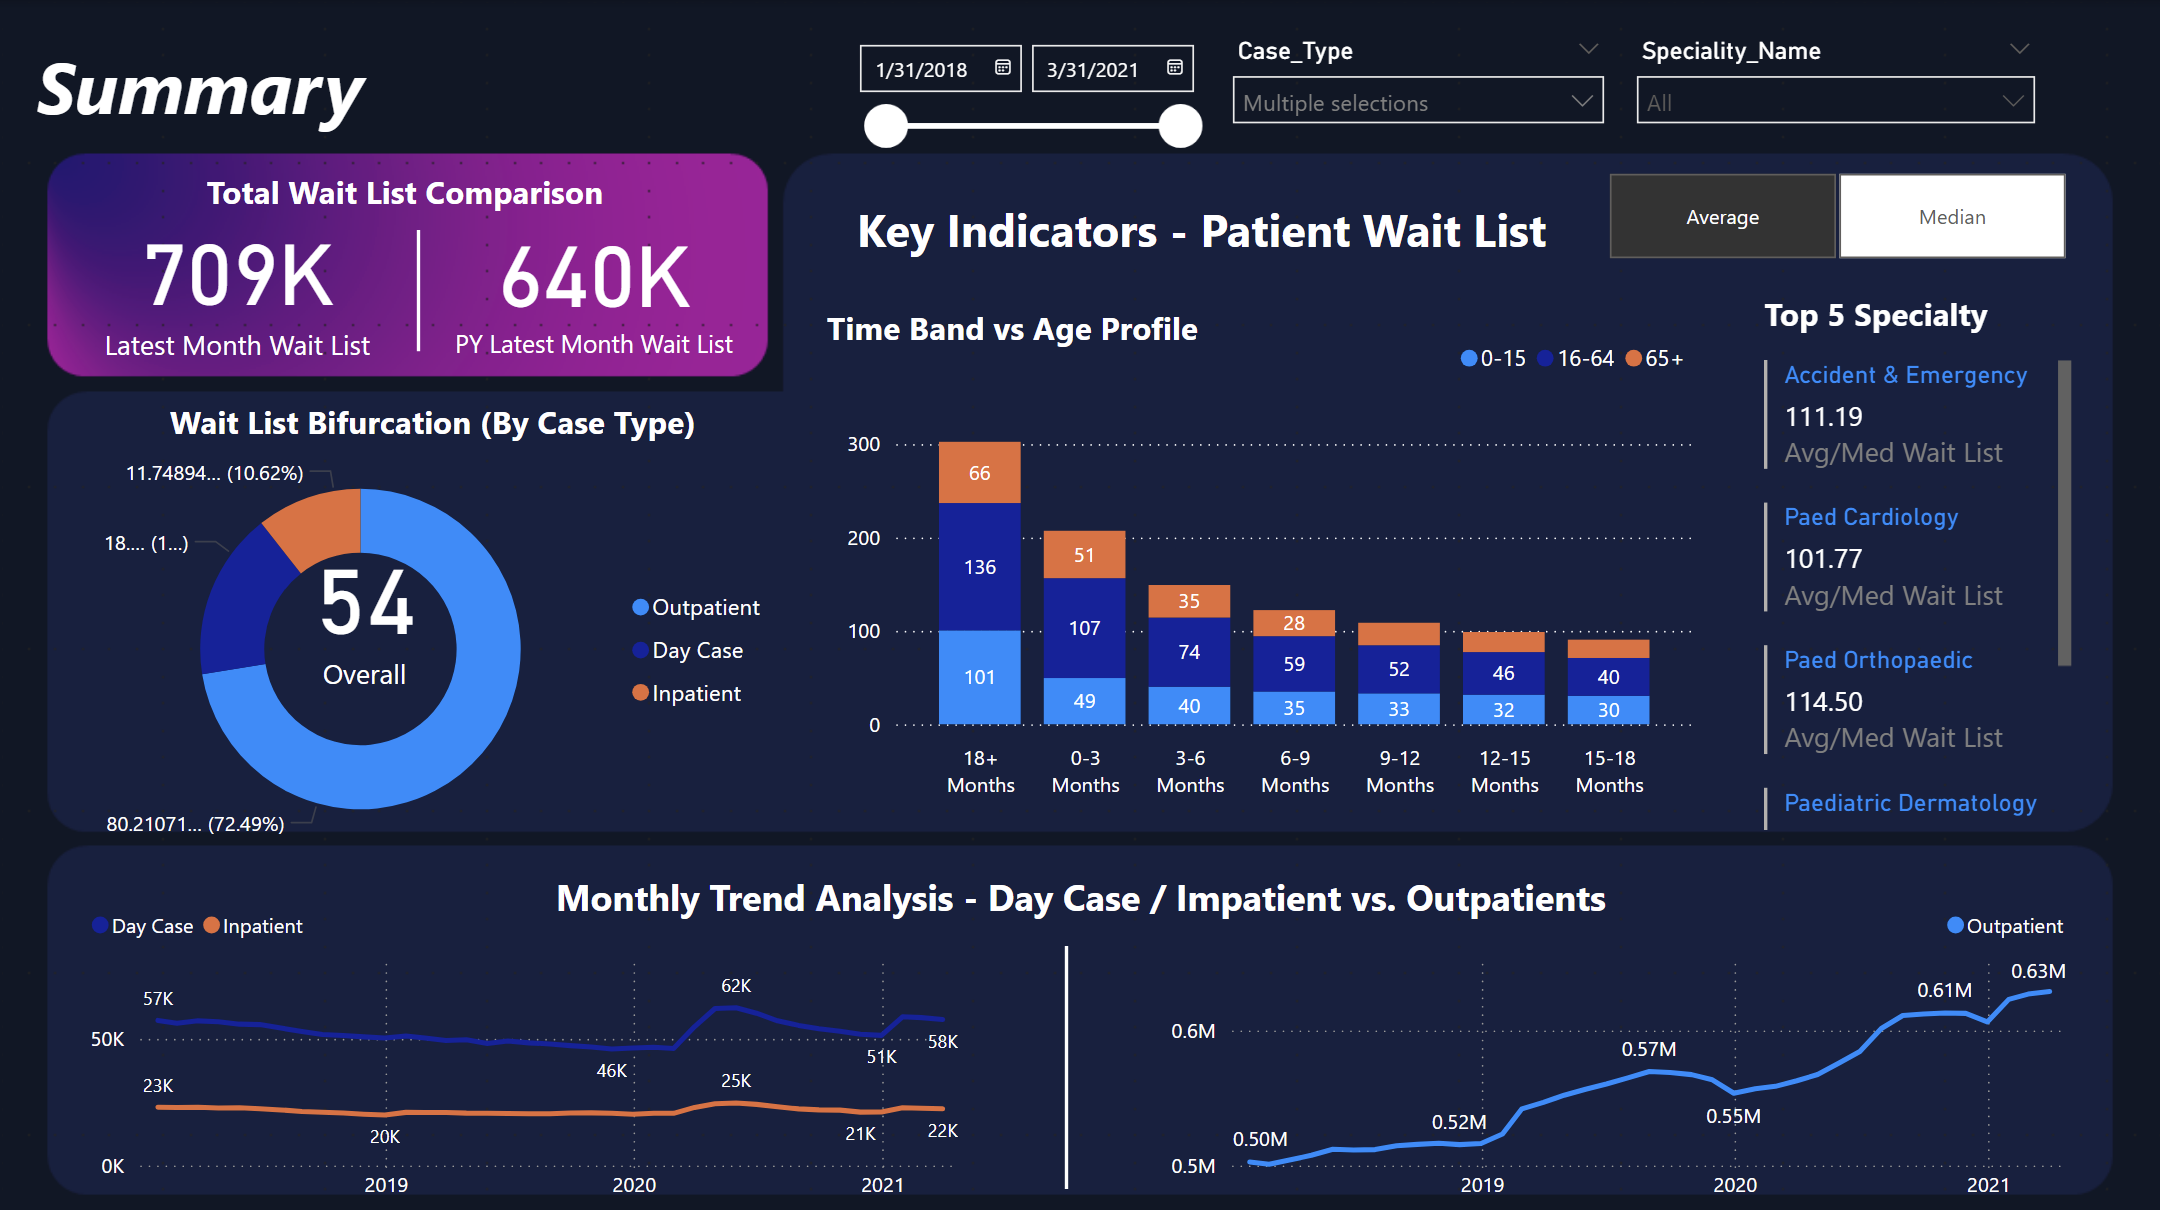

This screenshot's page, from the dashboard's own definition file:
{"tool":"powerbi","page":{"name":"Summary","canvas":[1280,720],"ordinal":0},"visuals":[{"type":"card","fields":{"Values":["All_Data.Latest Month Wait List"]},"box":[48,120,184,96],"z":0},{"type":"card","fields":{"Values":["All_Data.PY Latest Month Wait List"]},"box":[256,120,192,96],"z":1000},{"type":"slicer","fields":{"Values":["Calculation Method.Calc Method"]},"box":[928,96,320,64],"z":2000},{"type":"donutChart","fields":{"Category":["All_Data.Case_Type"],"Y":["All_Data.Avg/Med Wait List"]},"box":[64,224,400,288],"z":3000},{"type":"columnChart","fields":{"Y":["All_Data.Avg/Med Wait List"],"Category":["All_Data.Time_Bands"],"Series":["All_Data.Age_Profile"]},"box":[496,192,512,288],"z":4000},{"type":"multiRowCard","fields":{"Values":["All_Data.Speciality_Name","All_Data.Avg/Med Wait List"]},"box":[1040,208,192,288],"z":5000},{"type":"lineChart","fields":{"Category":["All_Data.Archive_Date"],"Y":["Sum(All_Data.Total)"],"Series":["All_Data.Case_Type"]},"box":[48,528,528,192],"z":6000},{"type":"lineChart","fields":{"Category":["All_Data.Archive_Date"],"Y":["Sum(All_Data.Total)"],"Series":["All_Data.Case_Type"]},"box":[688,528,544,192],"z":7000},{"type":"slicer","fields":{"Values":["All_Data.Archive_Date"]},"box":[496,16,224,80],"z":8000},{"type":"slicer","fields":{"Values":["All_Data.Case_Type"]},"box":[720,16,240,64],"z":9000},{"type":"slicer","fields":{"Values":["All_Data.Speciality_Name"]},"box":[960,16,256,80],"z":10000},{"type":"textbox","box":[16,16,224,80],"z":11000},{"type":"shape","box":[224,136,48,72],"z":12000},{"type":"textbox","box":[32,96,416,48],"z":13000},{"type":"textbox","box":[480,176,240,48],"z":14000},{"type":"textbox","box":[1040,168,160,40],"z":15000},{"type":"shape","box":[608,560,48,144],"z":16000},{"type":"textbox","box":[304,512,672,48],"z":17000},{"type":"card","fields":{"Values":["All_Data.Avg/Med Wait List"]},"box":[160,304,112,112],"z":18000},{"type":"textbox","box":[480,112,464,48],"z":19000}]}

Visuals, with their boxes in screenshot pixels (x1, y1, x2, y2), scaled from the page's 1280x720 canvas onto the 2160x1210 screenshot:
card - All_Data.Latest Month Wait List: <region>81, 202, 392, 363</region>
card - All_Data.PY Latest Month Wait List: <region>432, 202, 756, 363</region>
slicer - Calculation Method.Calc Method: <region>1566, 161, 2106, 269</region>
donutChart - All_Data.Case_Type x All_Data.Avg/Med Wait List: <region>108, 376, 783, 860</region>
columnChart - All_Data.Avg/Med Wait List x All_Data.Time_Bands: <region>837, 323, 1701, 807</region>
multiRowCard - All_Data.Speciality_Name x All_Data.Avg/Med Wait List: <region>1755, 350, 2079, 834</region>
lineChart - All_Data.Archive_Date x Sum(All_Data.Total): <region>81, 887, 972, 1209</region>
lineChart - All_Data.Archive_Date x Sum(All_Data.Total): <region>1161, 887, 2079, 1209</region>
slicer - All_Data.Archive_Date: <region>837, 27, 1215, 161</region>
slicer - All_Data.Case_Type: <region>1215, 27, 1620, 134</region>
slicer - All_Data.Speciality_Name: <region>1620, 27, 2052, 161</region>
textbox: <region>27, 27, 405, 161</region>
shape: <region>378, 229, 459, 350</region>
textbox: <region>54, 161, 756, 242</region>
textbox: <region>810, 296, 1215, 376</region>
textbox: <region>1755, 282, 2025, 350</region>
shape: <region>1026, 941, 1107, 1183</region>
textbox: <region>513, 860, 1647, 941</region>
card - All_Data.Avg/Med Wait List: <region>270, 511, 459, 699</region>
textbox: <region>810, 188, 1593, 269</region>
